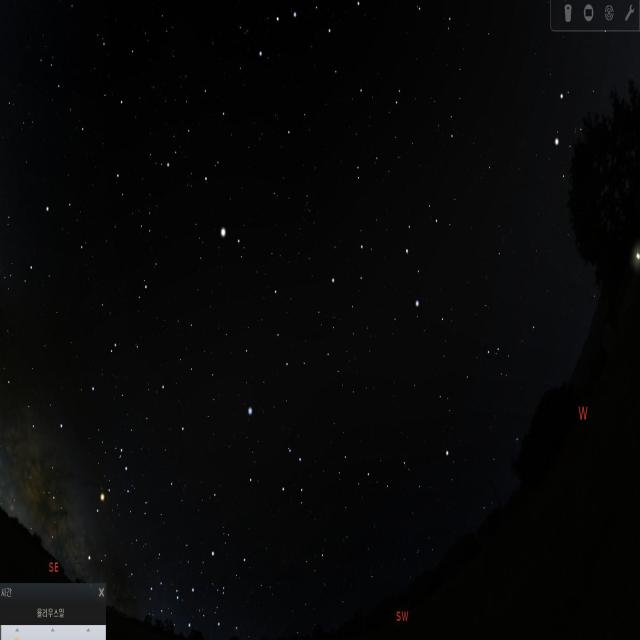bootes: (176, 74, 241, 240)
leo: (326, 191, 465, 343)
scorpius: (57, 438, 141, 569)
